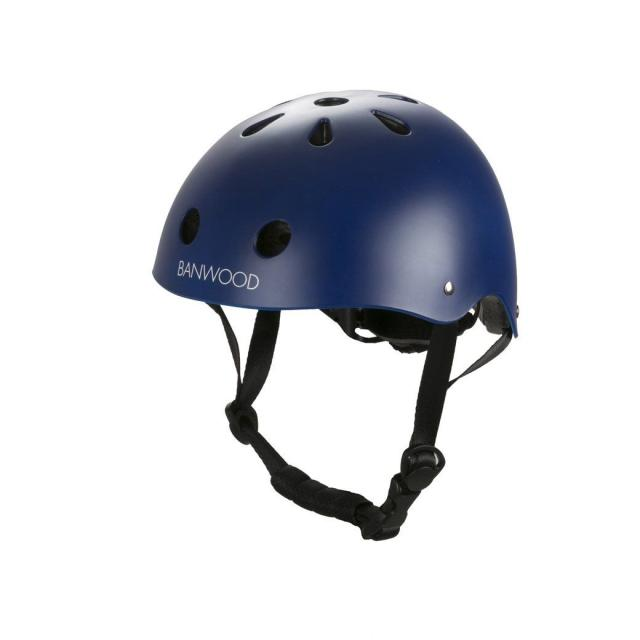Helmet: (151, 87, 523, 341)
